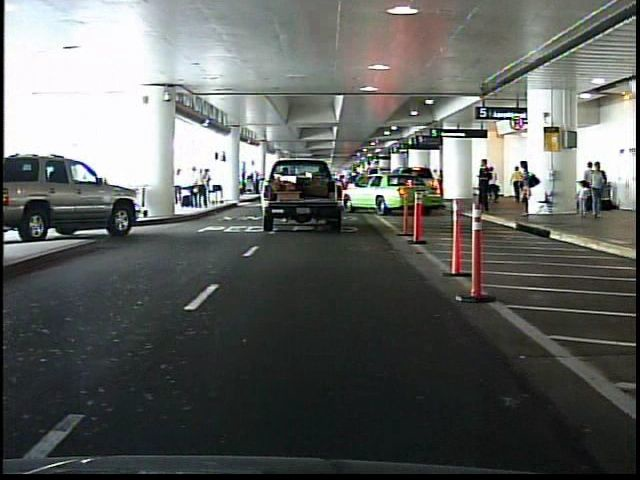person: (516, 156, 537, 220), (473, 156, 495, 216), (484, 161, 498, 209)
